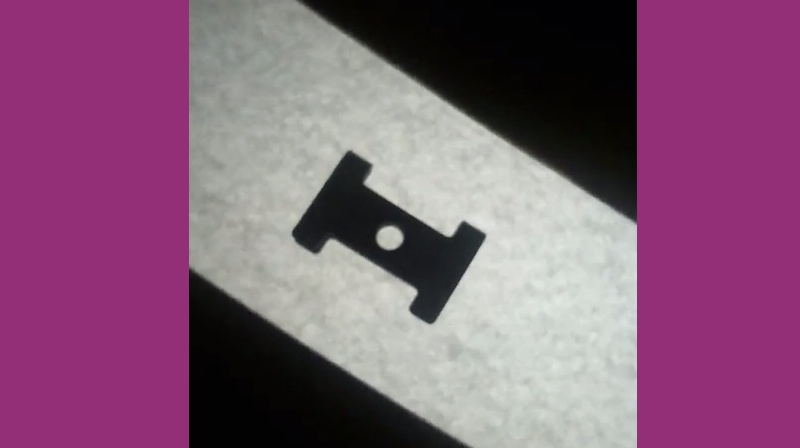O002: (290, 146, 490, 329)
